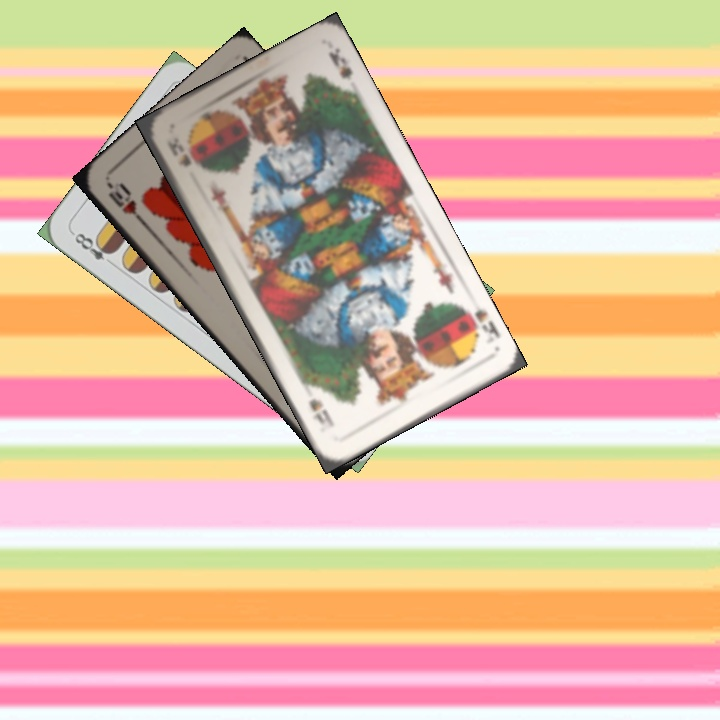E8: (68, 228, 117, 270)
H10: (104, 179, 148, 228)
SK: (470, 304, 502, 341), (163, 136, 194, 169)
